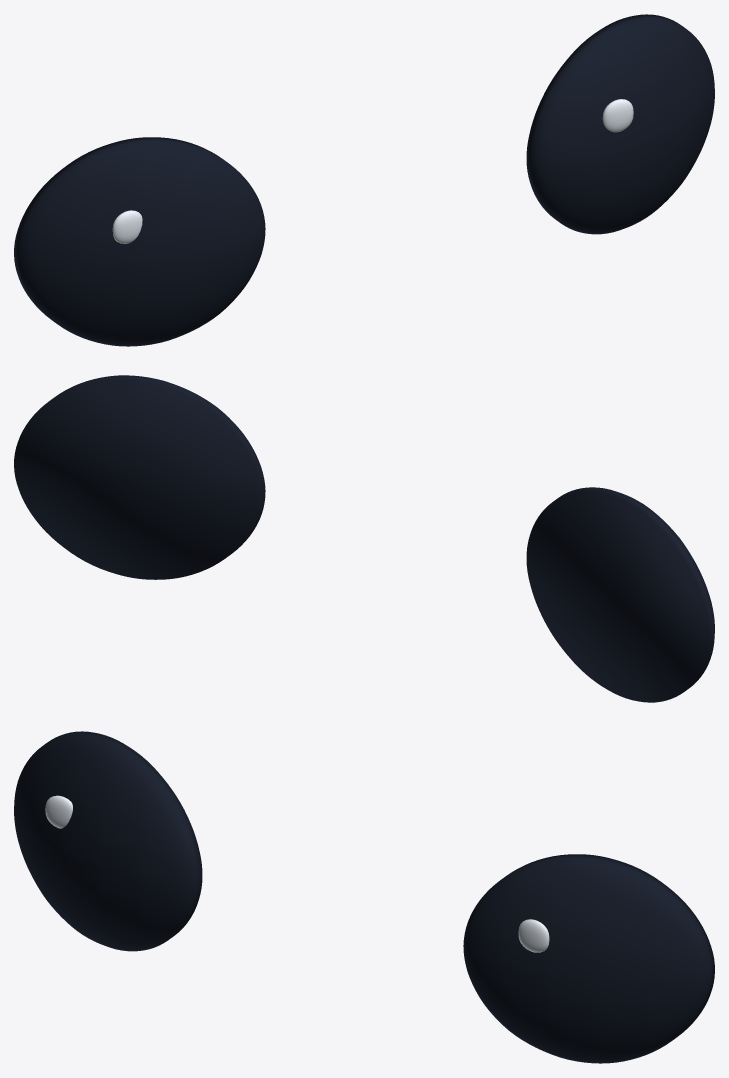
File: Masculine-eyes-almond.glb
3 renders of one model, top to bottom at view 1: azimuth 30°, elevation 25°; view 2: azimuth 150°, elevation 25°; view 3: azimuth 330°, elevation 25°, orthographic.
Parts seen in each view (by area): view 1: Eye / almond -1, Eye / almond 1, Eye highlight / almond 1, Eye highlight / almond -1; view 2: Eye / almond 1, Eye / almond -1; view 3: Eye / almond 1, Eye / almond -1, Eye highlight / almond 1, Eye highlight / almond -1.
Part boxes in pixels (x1=…): Eye / almond -1: x1=14, y1=137, x2=265, y2=346; Eye / almond 1: x1=526, y1=14, x2=714, y2=234; Eye highlight / almond 1: x1=602, y1=99, x2=633, y2=132; Eye highlight / almond -1: x1=112, y1=210, x2=142, y2=243; Eye / almond 1: x1=14, y1=375, x2=265, y2=579; Eye / almond -1: x1=526, y1=487, x2=714, y2=702; Eye / almond 1: x1=463, y1=854, x2=714, y2=1063; Eye / almond -1: x1=14, y1=731, x2=202, y2=951; Eye highlight / almond 1: x1=518, y1=919, x2=549, y2=952; Eye highlight / almond -1: x1=45, y1=795, x2=72, y2=828.
Bounding box in the file's own units: 0.434 × 0.12 × 0.0516.
